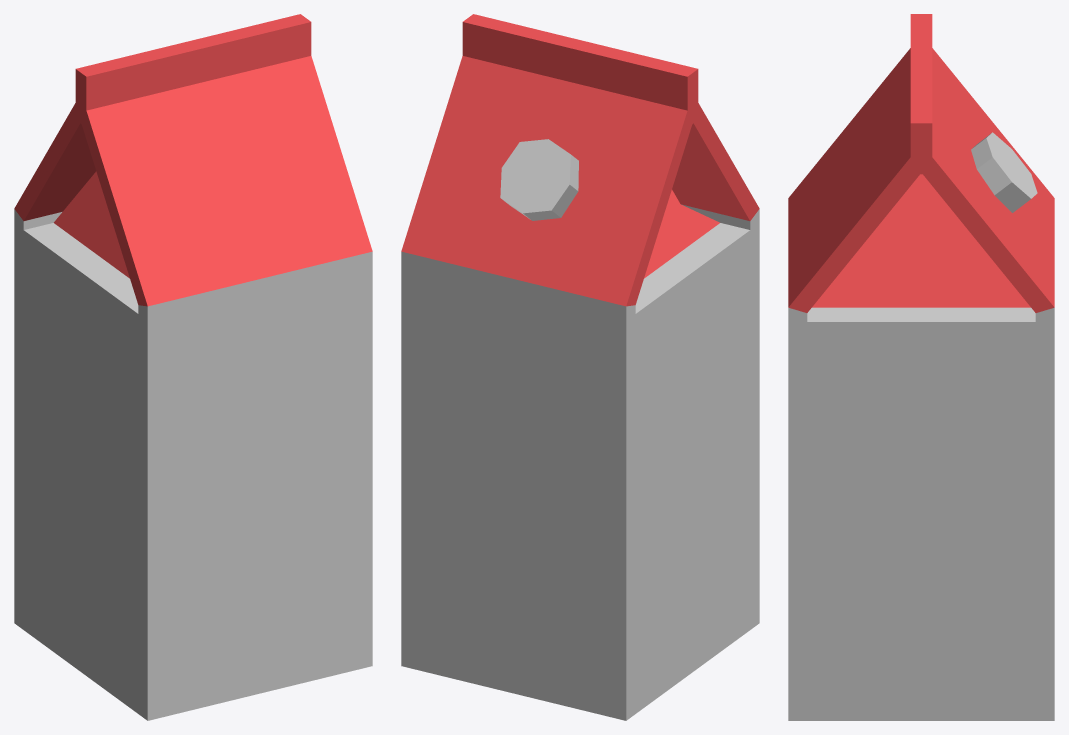
Rendered from Melkekartong.fbx.
The picture shows the model from 3 angles, left to right: view 1: azimuth 30°, elevation 25°; view 2: azimuth 150°, elevation 25°; view 3: azimuth 270°, elevation 25°; orthographic projection.
Visible parts, largest first — view 1: Cube.005; view 2: Cube.005; view 3: Cube.005.
Boxes of the visible parts, box(x1,y1,x2,y2) form: Cube.005: box(14, 14, 372, 720); Cube.005: box(401, 14, 759, 720); Cube.005: box(788, 14, 1054, 720).
Size of the model in its own units: 20.48 by 52.13 by 21.06.
